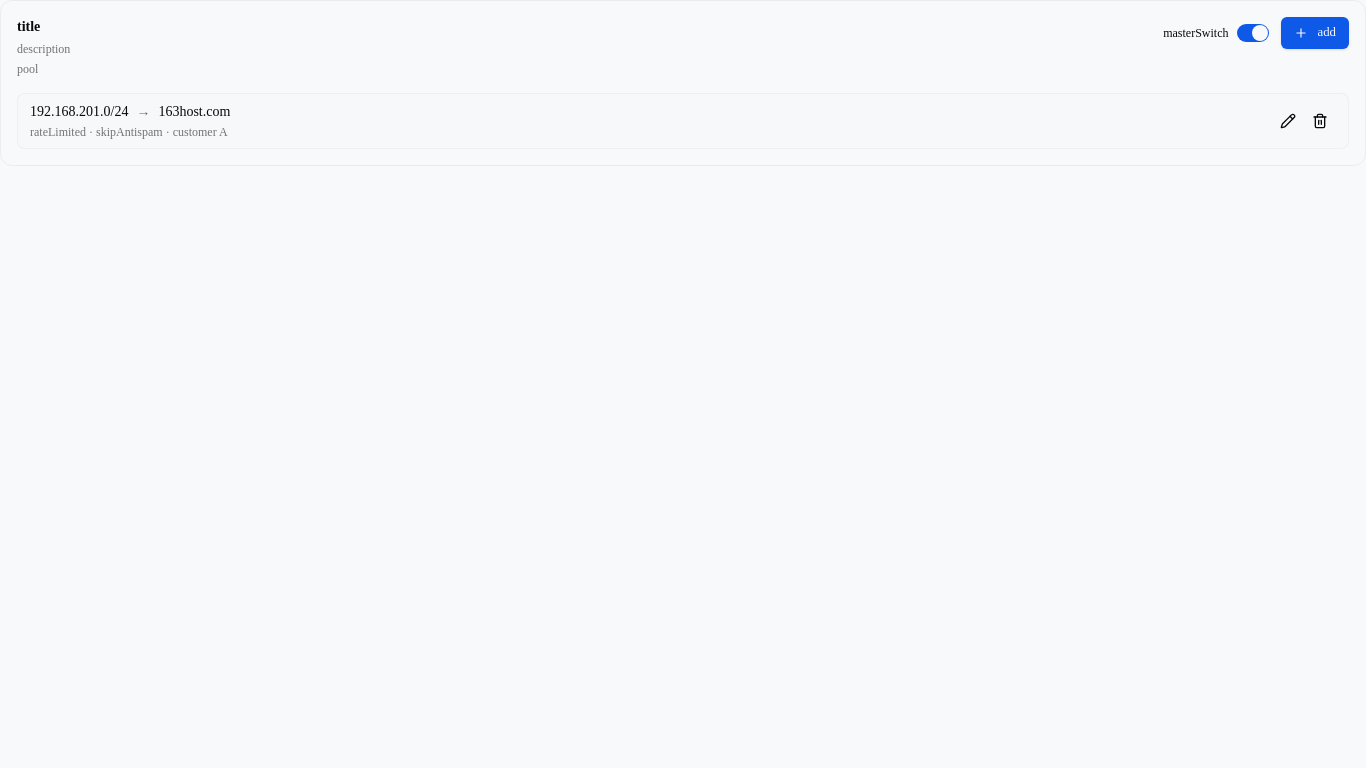
RelayGrantsCard edit-in-place (review: no edit entry) › 编辑弹窗预填 skip_antispam / 限速 / 备注
Step 1. Click the button with test id "relay-grant-edit" → x=1288, y=121, box top-left (1272, 105), bottom-right (1304, 137)
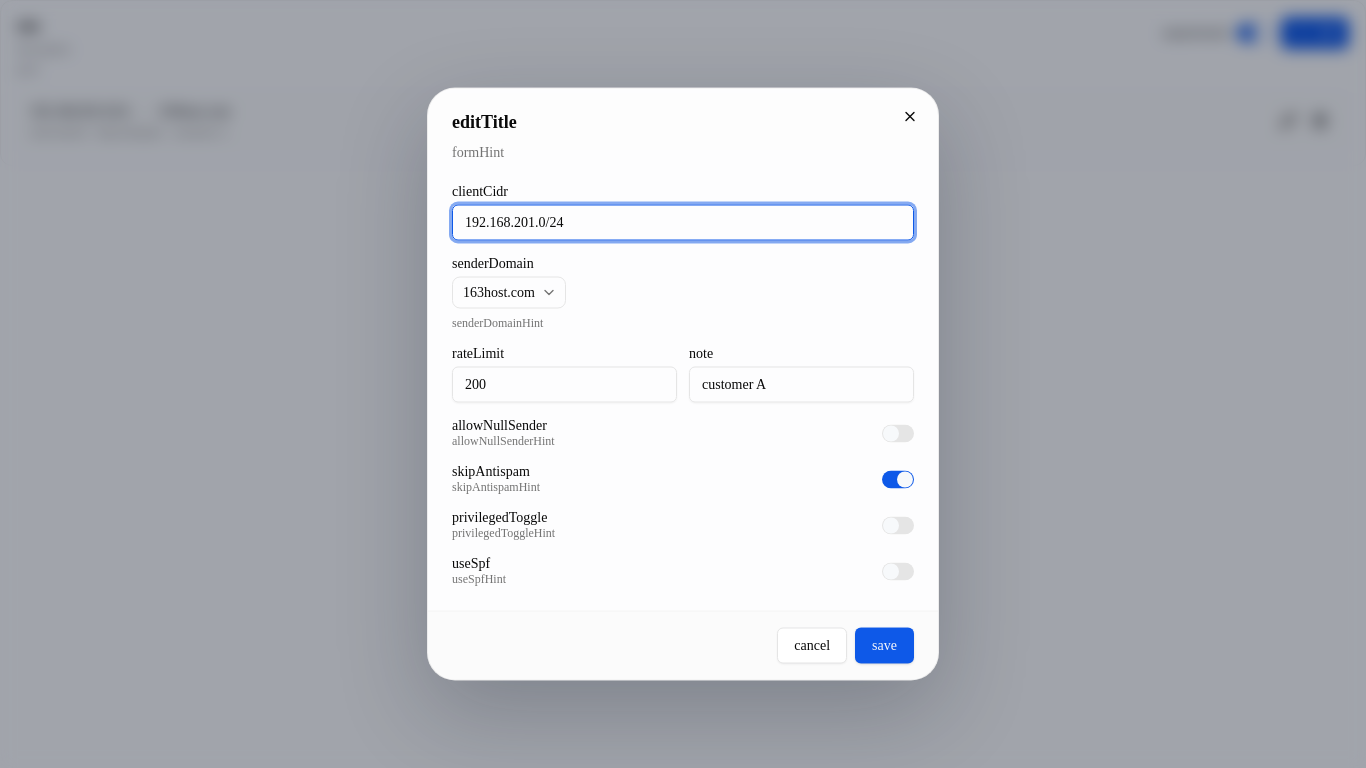
Check: the number field labelled "rateLimit" holds "200", box top-left (452, 366), bottom-right (677, 402)
Check: the field labelled "note" holds "customer A", box top-left (689, 366), bottom-right (914, 402)
